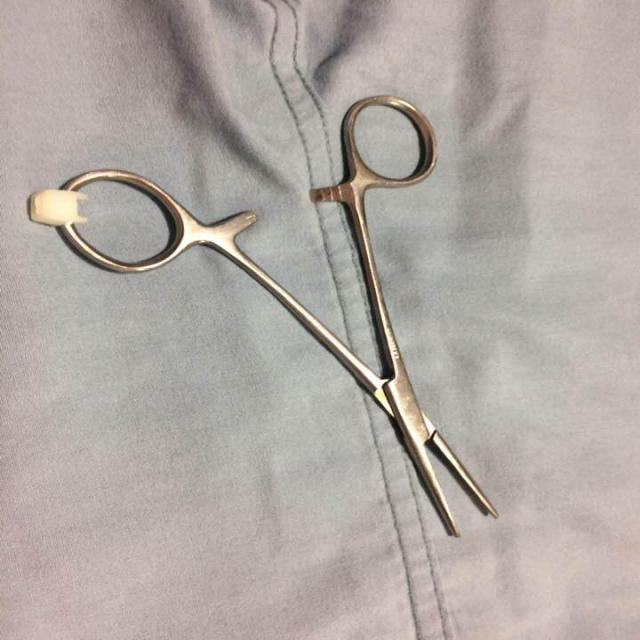Hemostat: (52, 90, 500, 540)
